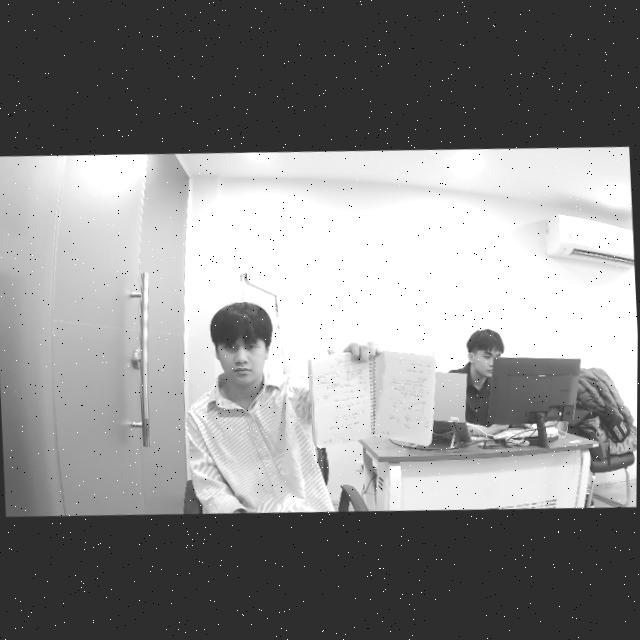document: (309, 350, 437, 449)
face: (211, 307, 274, 386), (451, 329, 509, 378)
